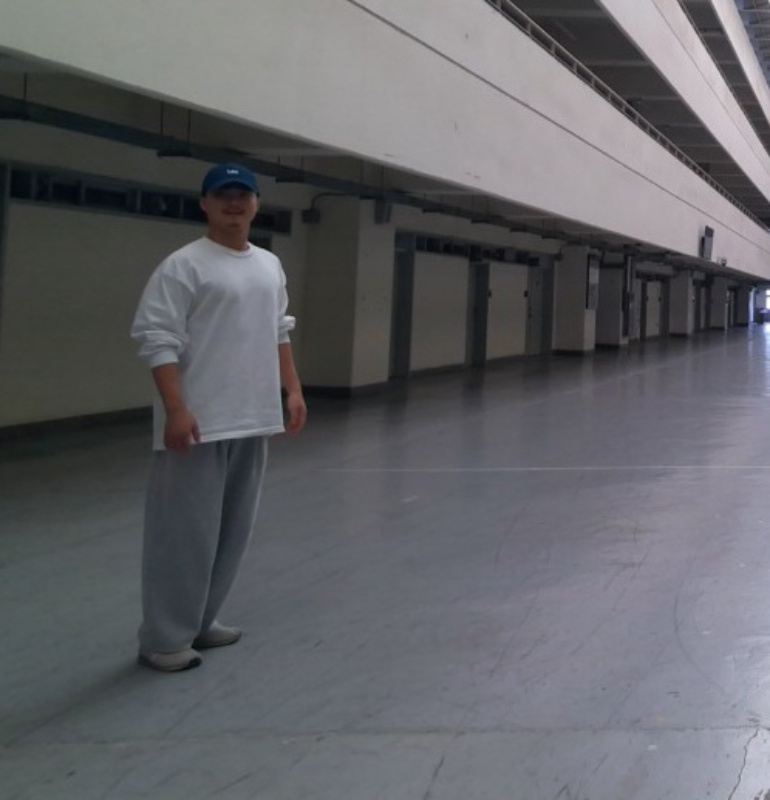person: (135, 162, 310, 676)
